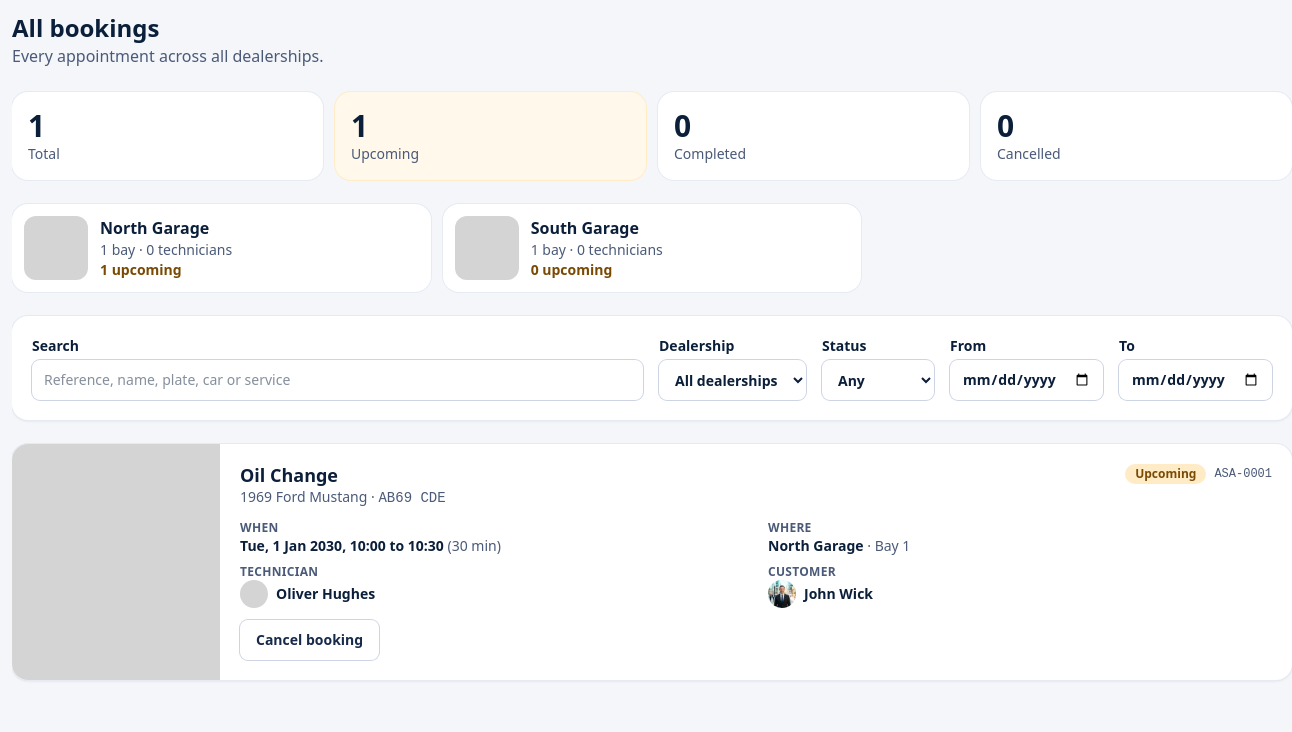
Test: staff overview › names the problem when From is after To
The image size is (1292, 732).
Expected: the heading "Oil Change" is shown, [240,463,338,487]
Type "2030-02-10" into the date field labelled "From" at (1026, 380), box [950,360,1103,400]
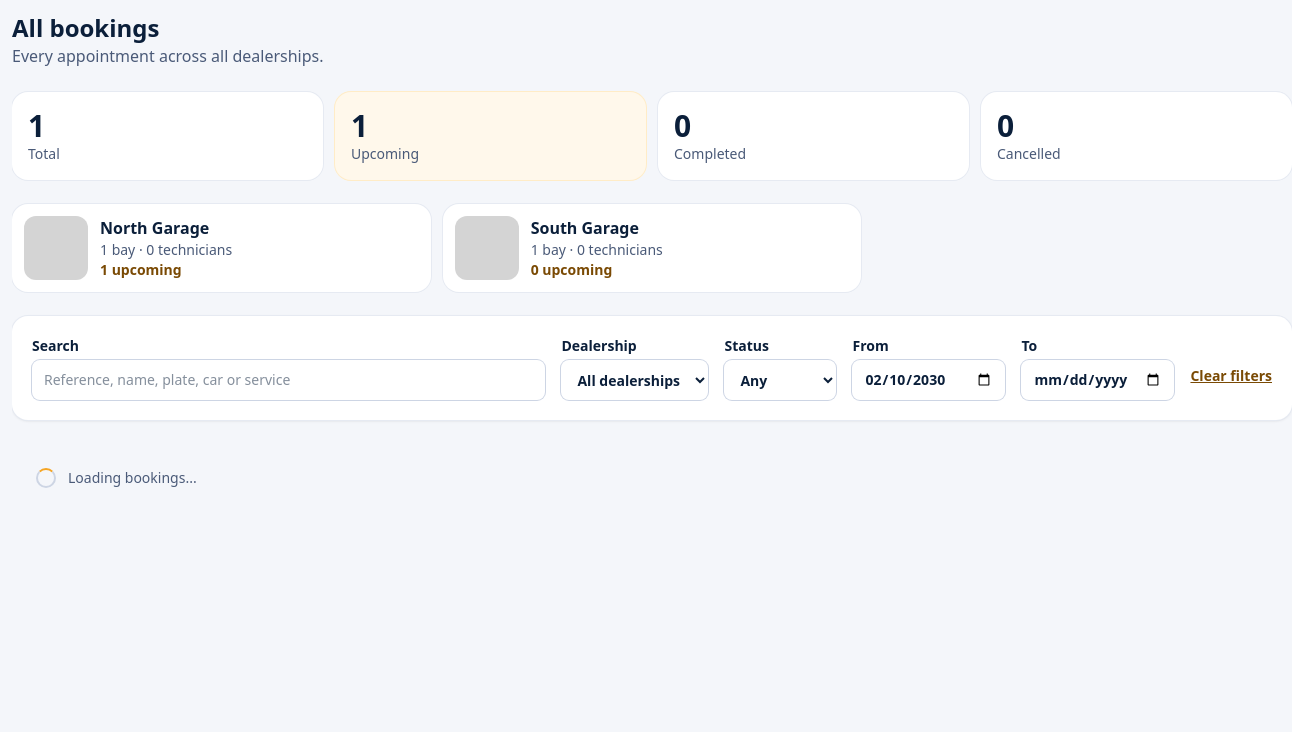
Type "2030-02-01" into the date field labelled "To" at (1098, 380), box [1022,360,1174,400]
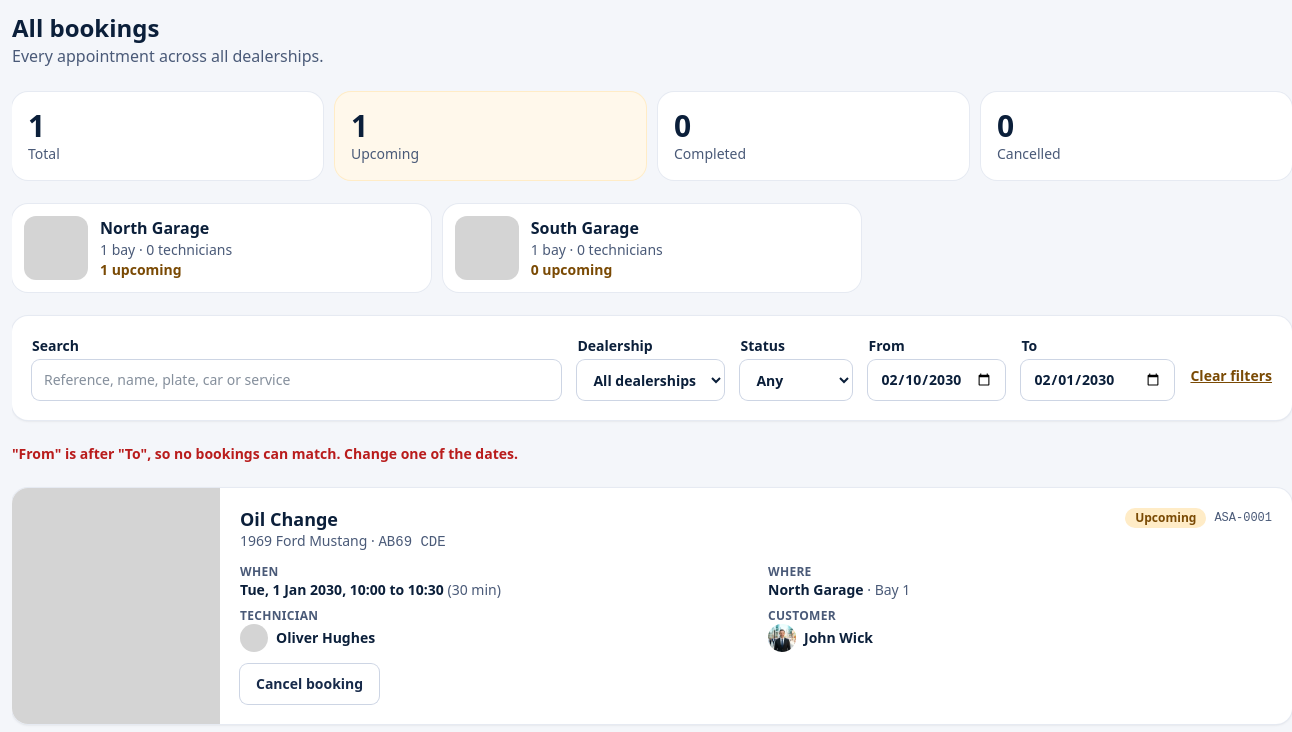
Result: the message shows "\"From\" is after \"To\"" at [12,444,518,463]
